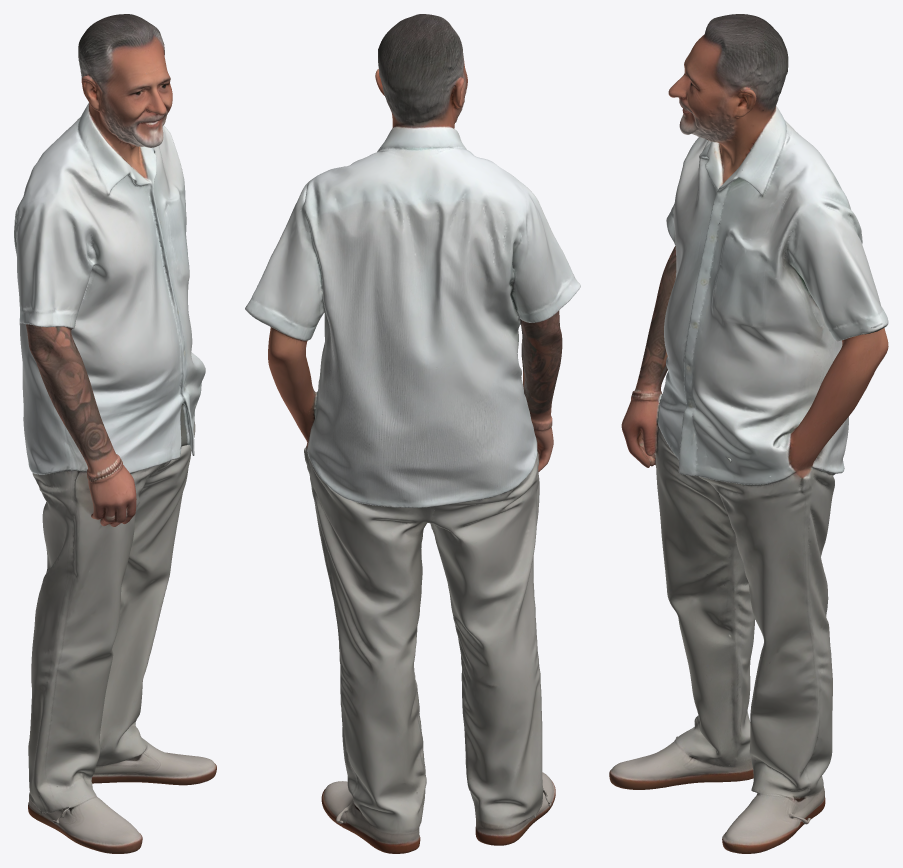
The model's file is gentleman_in_shirt.glb.
3 renders of one model, left to right at view 1: azimuth 30°, elevation 25°; view 2: azimuth 150°, elevation 25°; view 3: azimuth 270°, elevation 25°, orthographic. The views are drawn at different scales.
Parts seen in each view (by area): view 1: Object_5, Object_6, Object_7; view 2: Object_6, Object_5, Object_7; view 3: Object_6, Object_5, Object_7.
Boxes of the visible parts, x1=… form: Object_5: x1=15, y1=17, x2=215, y2=853; Object_6: x1=14, y1=14, x2=216, y2=817; Object_7: x1=15, y1=22, x2=191, y2=816; Object_6: x1=245, y1=14, x2=549, y2=853; Object_5: x1=333, y1=14, x2=580, y2=839; Object_7: x1=403, y1=14, x2=534, y2=845; Object_6: x1=690, y1=14, x2=888, y2=853; Object_5: x1=609, y1=14, x2=792, y2=853; Object_7: x1=696, y1=22, x2=761, y2=780.
Size of the model in its own units: 0.5779 by 1.9 by 0.6063.
Materials: 1 (1 with a texture image).
